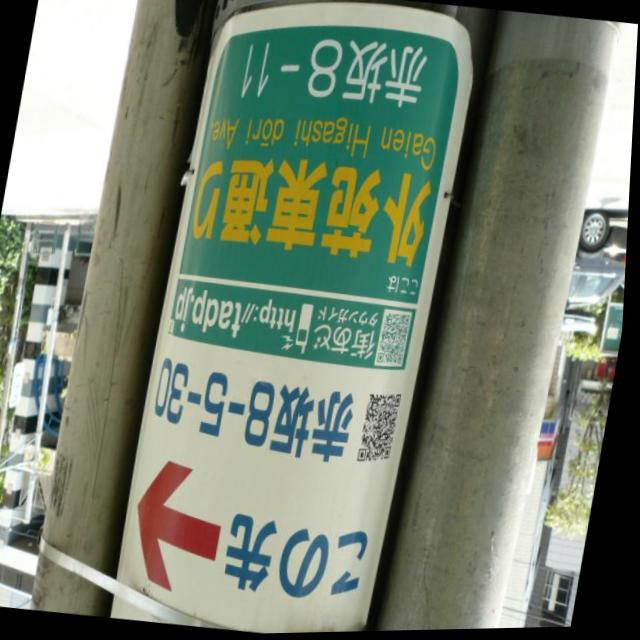qrcode: (362, 392, 405, 465), (380, 314, 413, 367)
